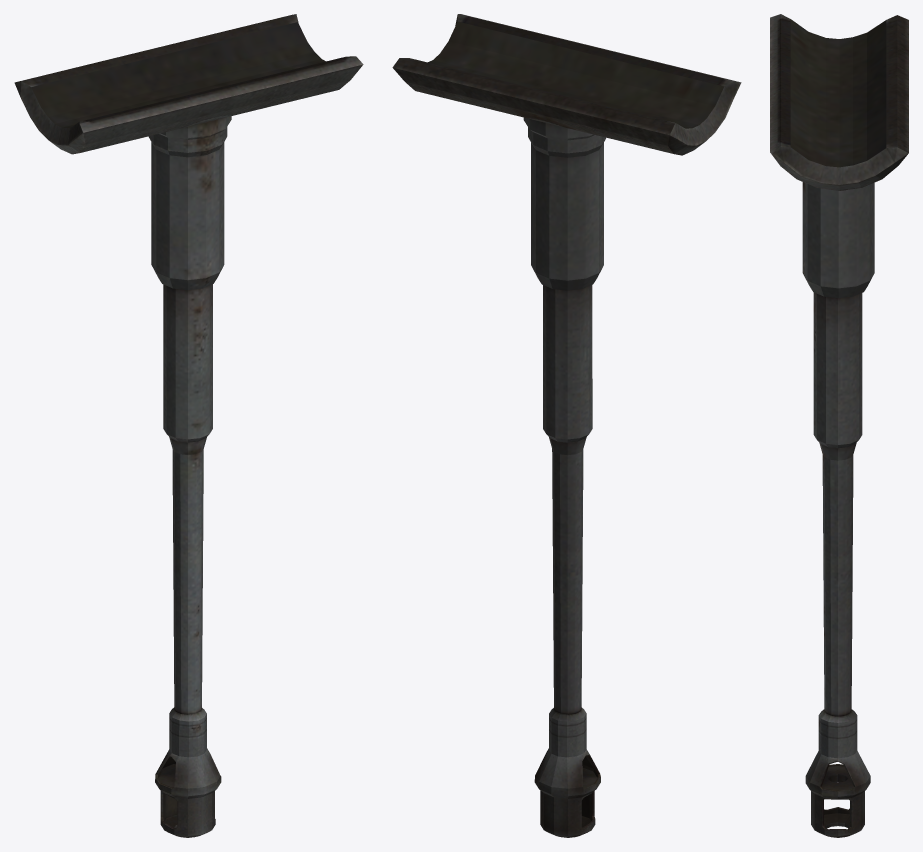
Rendered from Gun.obj.
3 renders of one model, left to right at view 1: azimuth 30°, elevation 25°; view 2: azimuth 150°, elevation 25°; view 3: azimuth 270°, elevation 25°, orthographic.
Visible parts, largest first — view 1: 3D_Object_1; view 2: 3D_Object_1; view 3: 3D_Object_1.
Boxes of the visible parts, x1,y1,x2,y2 form: 3D_Object_1: (14,14,363,837); 3D_Object_1: (392,14,741,837); 3D_Object_1: (770,14,908,837).
Bounding box in the file's own units: 1.53 × 3.98 × 0.6653.
1 material, 1 textured.
